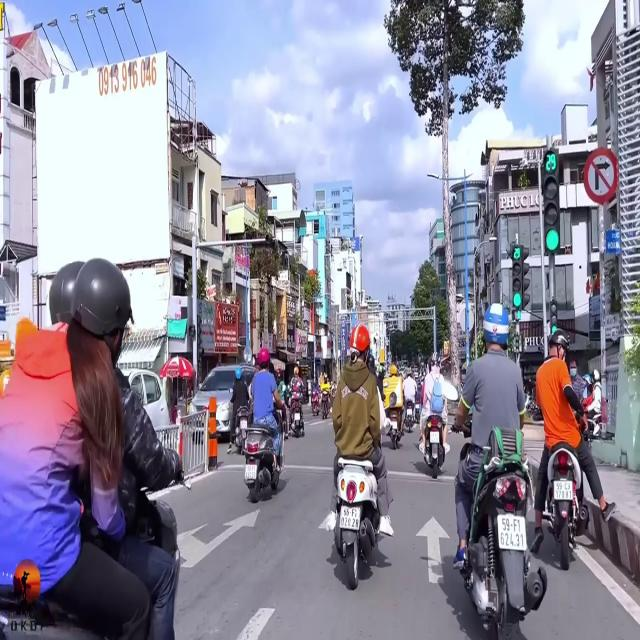bien_trang: (496, 513, 526, 546), (550, 478, 576, 504), (338, 502, 359, 530)
